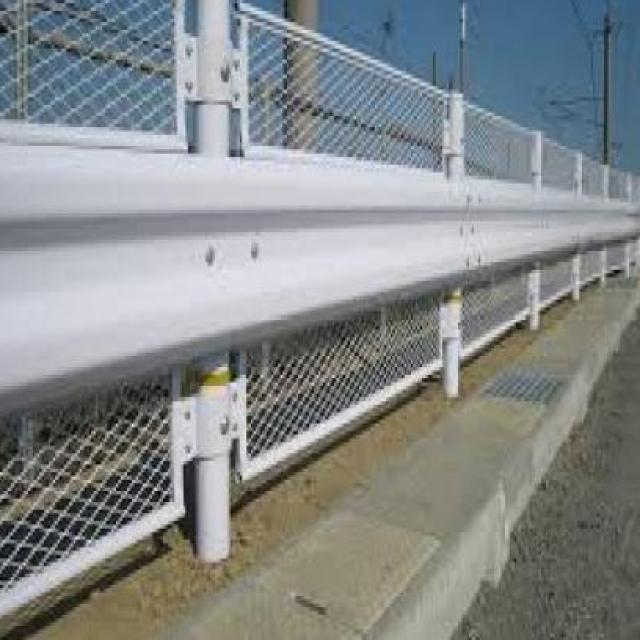Guard rail: (0, 122, 640, 521)
